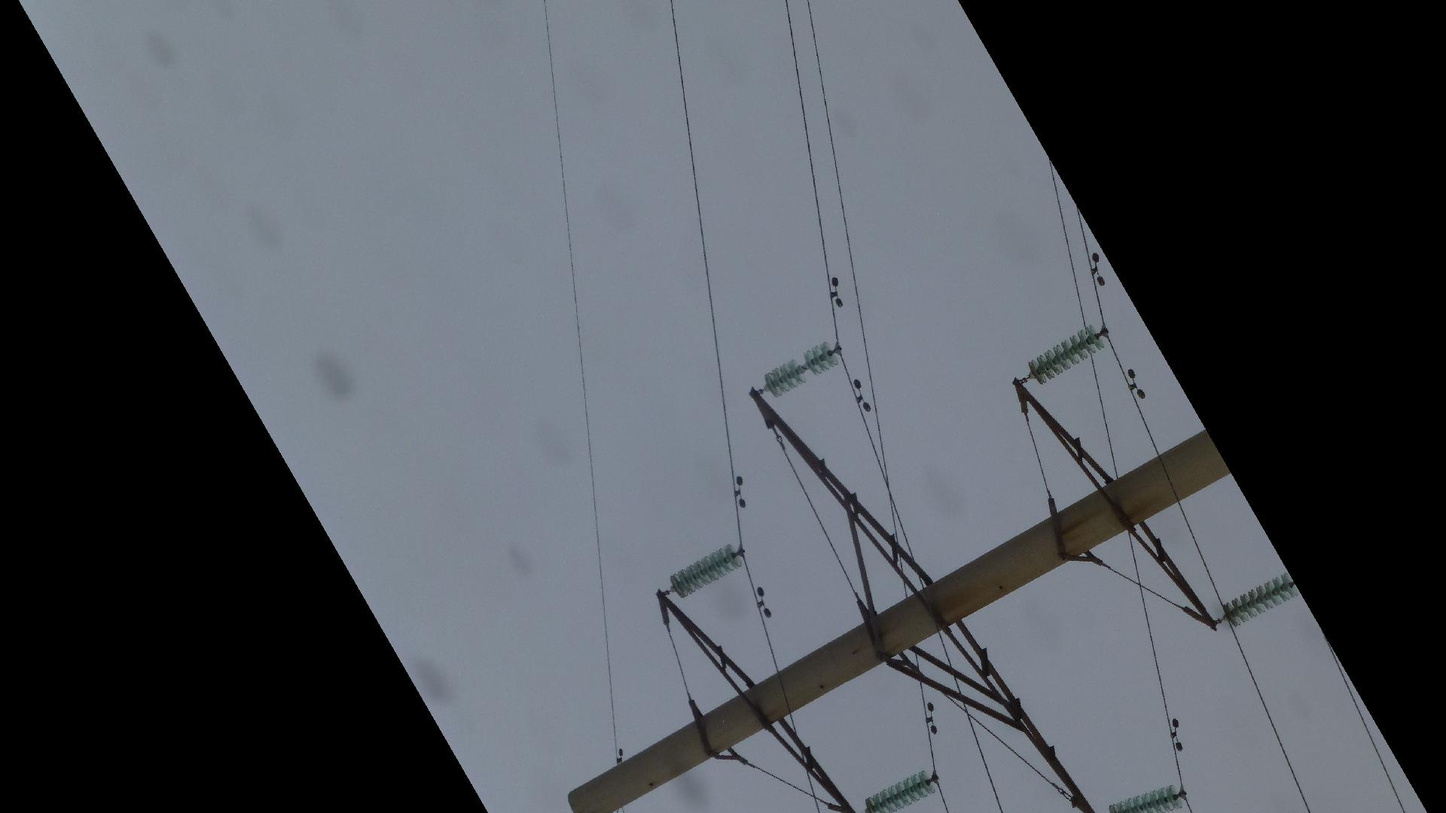insulator: (1026, 321, 1107, 386), (762, 336, 843, 398), (666, 540, 746, 601), (1219, 571, 1297, 629), (862, 769, 939, 813), (1106, 781, 1188, 813)
insulator_stringdrop: (786, 345, 822, 385)
